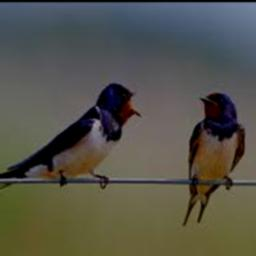Swallow: (0, 82, 145, 201), (184, 90, 244, 226)
